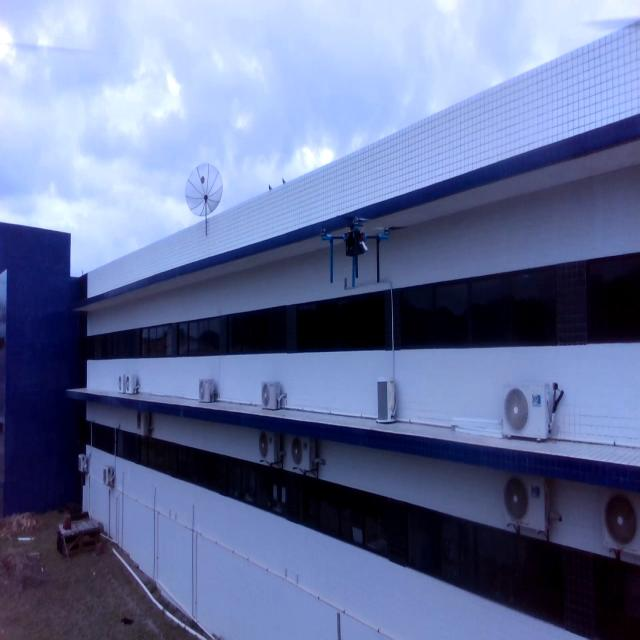-uav-: (313, 209, 395, 292)
